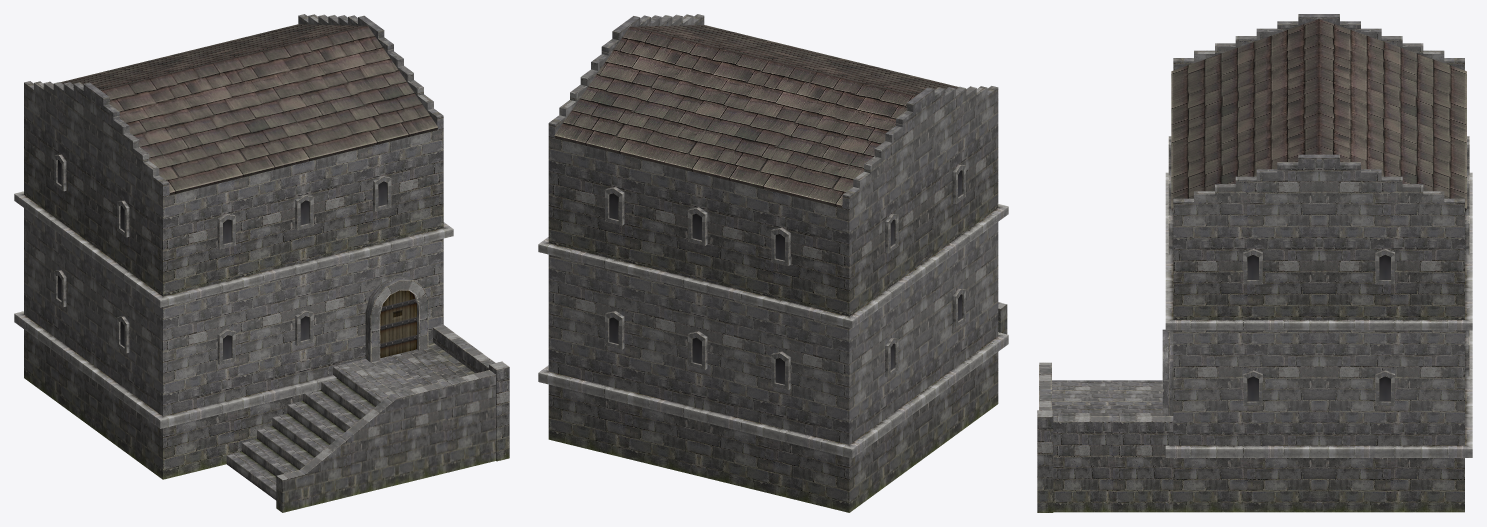
The model's file is CastleHouse04.FBX.
The picture shows the model from 3 angles, left to right: view 1: azimuth 30°, elevation 25°; view 2: azimuth 150°, elevation 25°; view 3: azimuth 270°, elevation 25°; orthographic projection. The views are drawn at different scales.
Parts seen in each view (by area): view 1: CastleHouse04, CastleHouseStairs, CastleHouseDoor; view 2: CastleHouse04; view 3: CastleHouse04, CastleHouseStairs, CastleHouseDoor.
Part boxes in pixels (x1,y1,x2,y2): CastleHouse04: (14,14,453,479); CastleHouseStairs: (226,325,509,512); CastleHouseDoor: (365,276,428,362); CastleHouse04: (538,14,1008,512); CastleHouse04: (1165,14,1472,512); CastleHouseStairs: (1037,362,1173,512); CastleHouseDoor: (1162,329,1173,415).
Size of the model in its own units: 1305 by 1436 by 1598.
